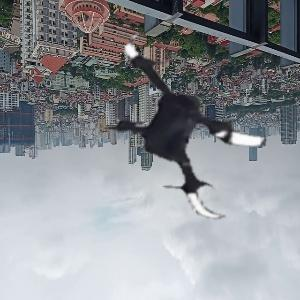drone: (89, 22, 296, 229)
